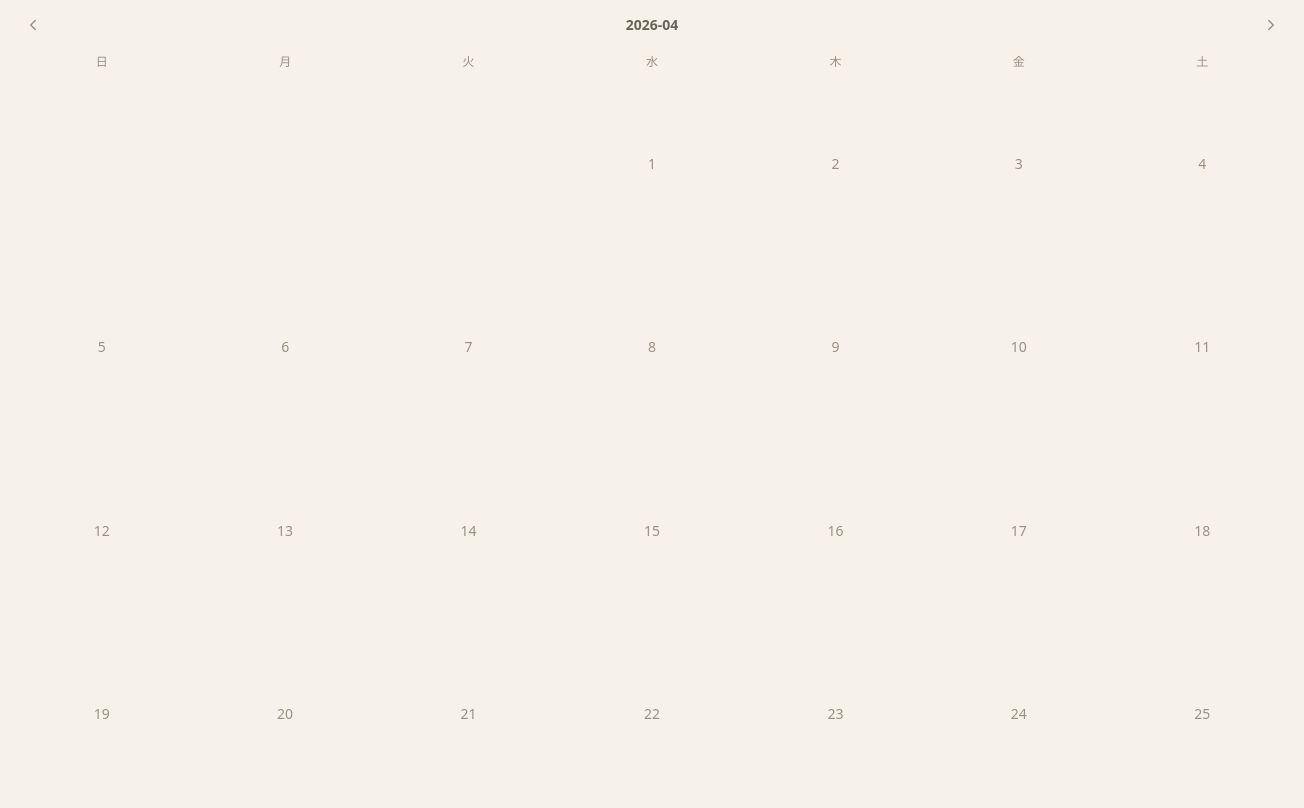
Test: CalendarView › 次の月 / 前の月ボタンで月を移動する
Click the button named "次の月": (1271, 25) [1250,12,1292,38]
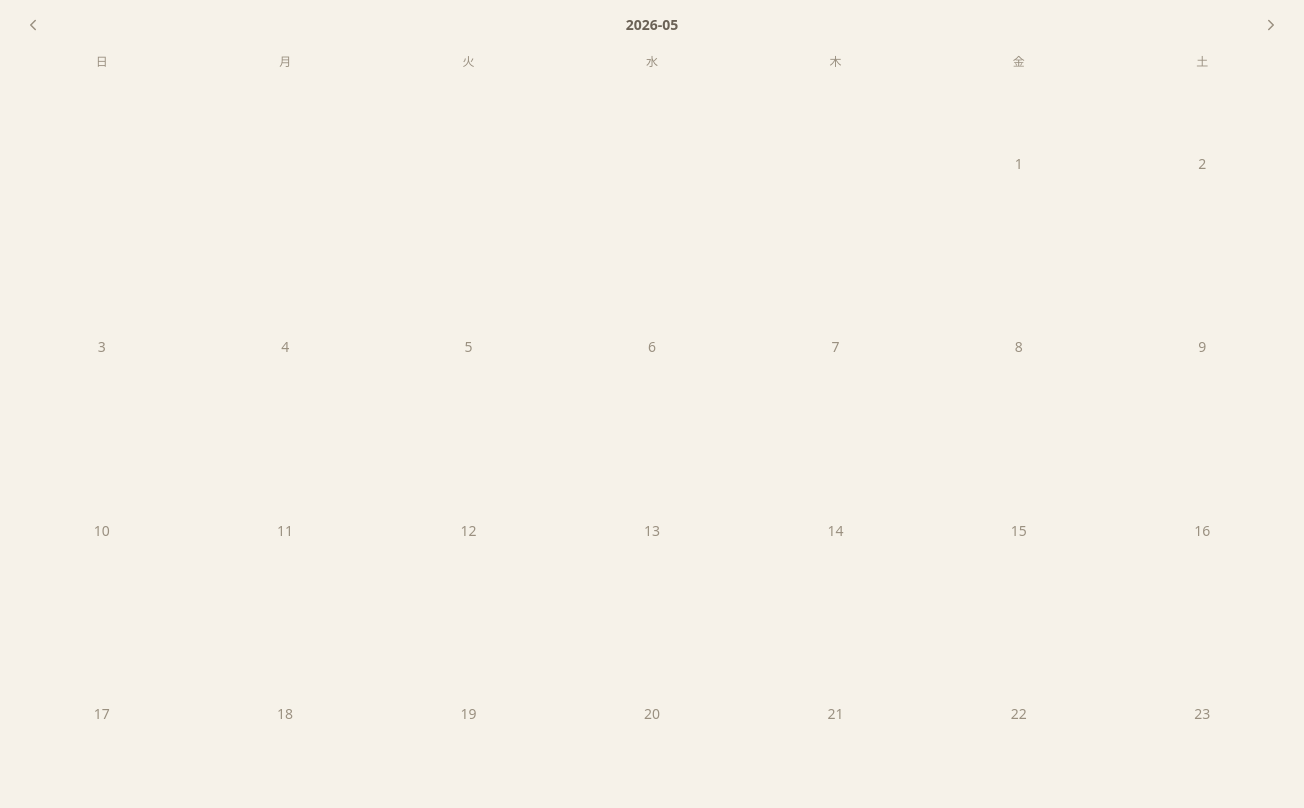
Now the text "2026-05" is shown, box [626,15,678,35]
Click the button named "前の月": (33, 25) [12,12,54,38]
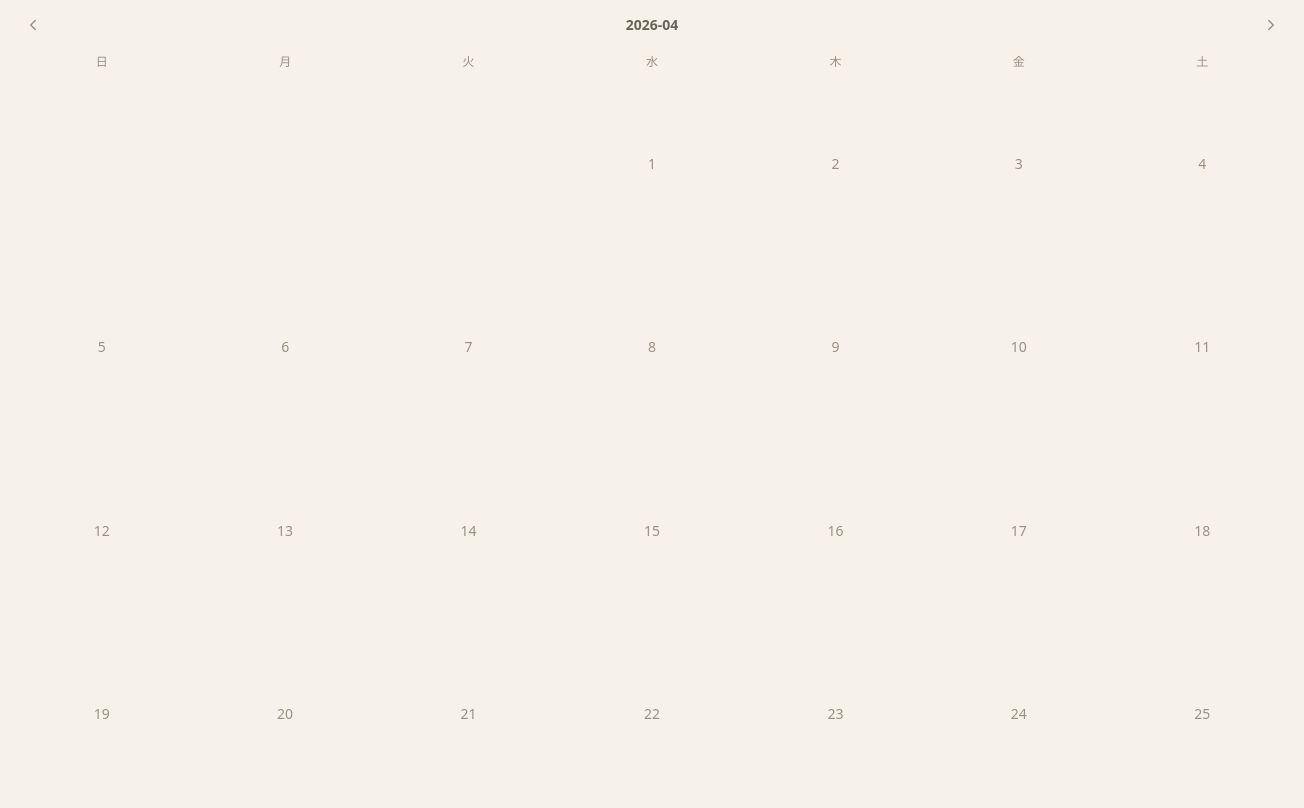
Click the button named "前の月": (33, 25) [12,12,54,38]
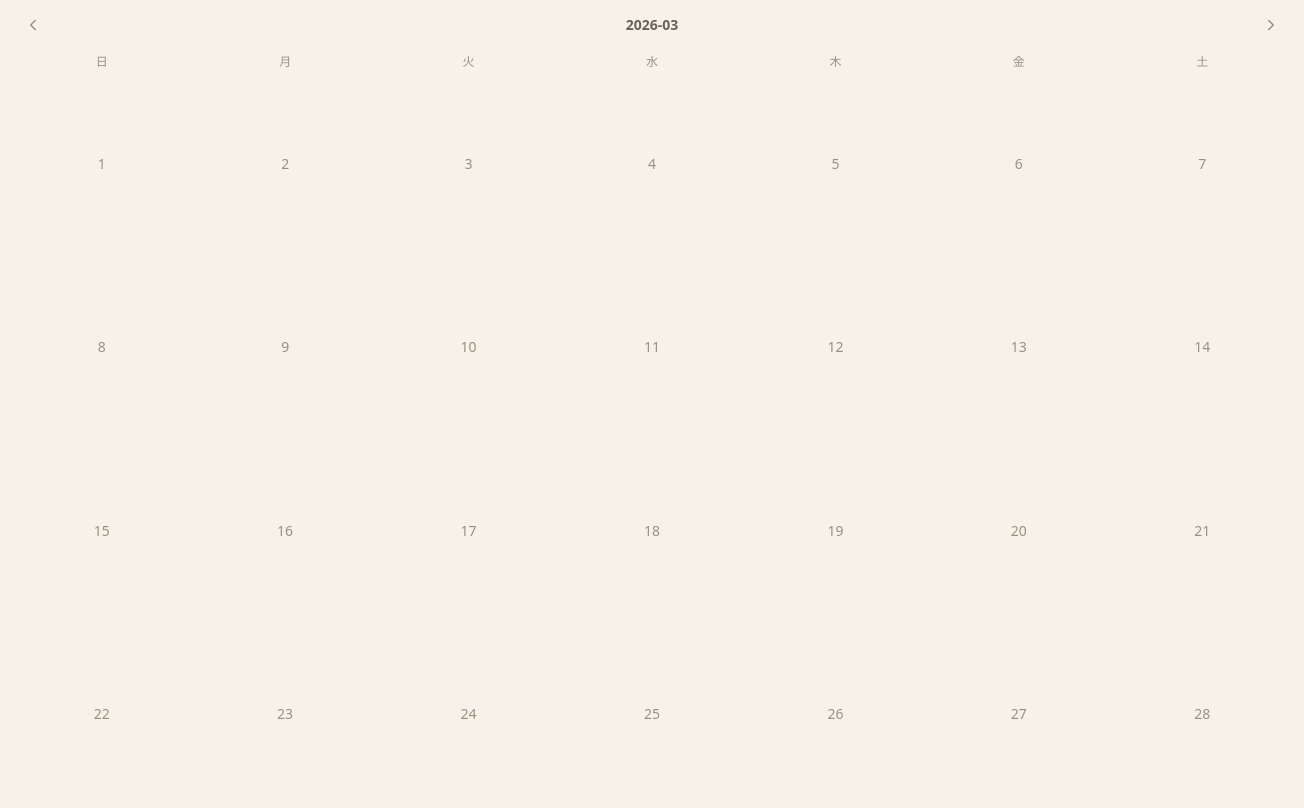
Now the text "2026-03" is shown, box [626,15,678,35]
